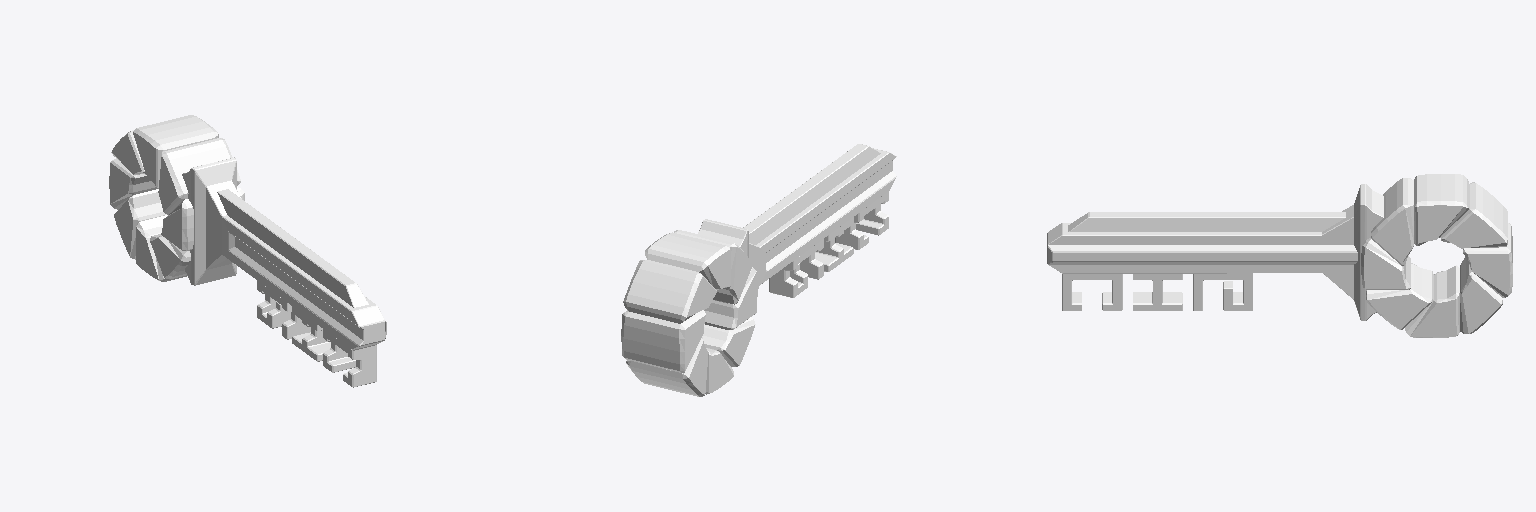
Rendered from Aperture_Key.obj.
The picture shows the model from 3 angles: view 1: azimuth 30°, elevation 25°; view 2: azimuth 150°, elevation 25°; view 3: azimuth 270°, elevation 25°; orthographic projection.
Parts seen in each view (by area): view 1: g0; view 2: g0; view 3: g0.
Boxes of the visible parts, box(x1,y1,x2,y2) form: g0: box(109, 115, 386, 387); g0: box(621, 144, 896, 396); g0: box(1047, 174, 1512, 337).
Size of the model in its own units: 0.0143 by 0.0296 by 0.091.